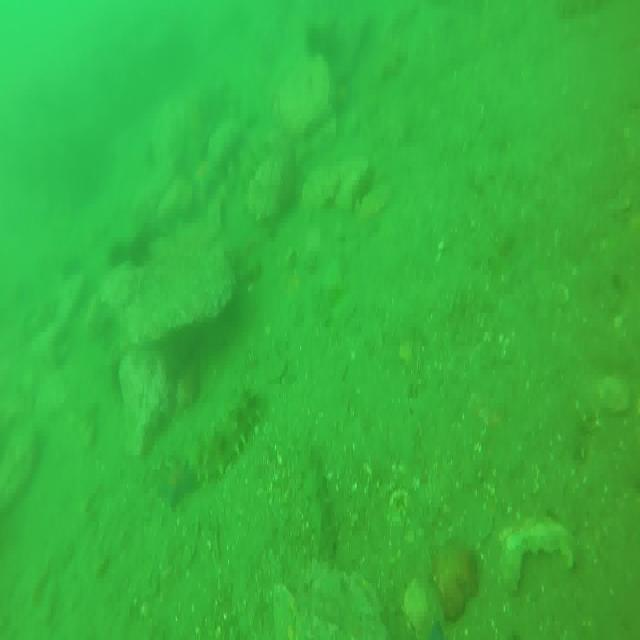holothurian: (194, 392, 263, 480), (291, 440, 334, 561)
starfish: (145, 455, 198, 508)
